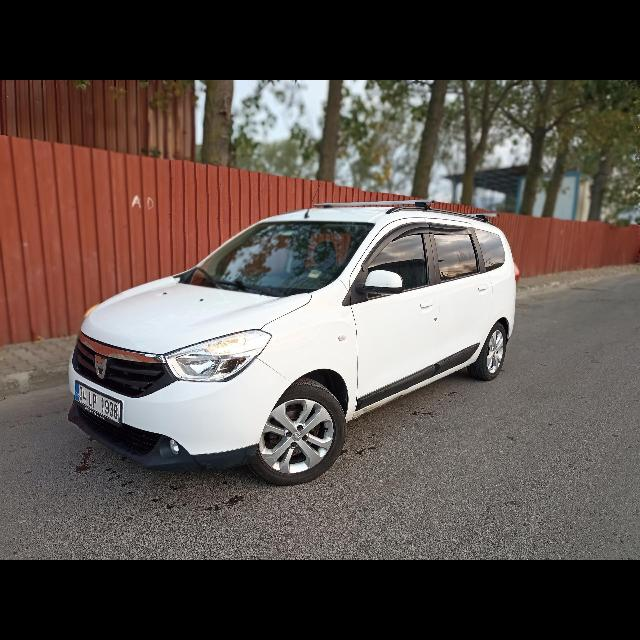Plaka: (75, 382, 121, 424)
